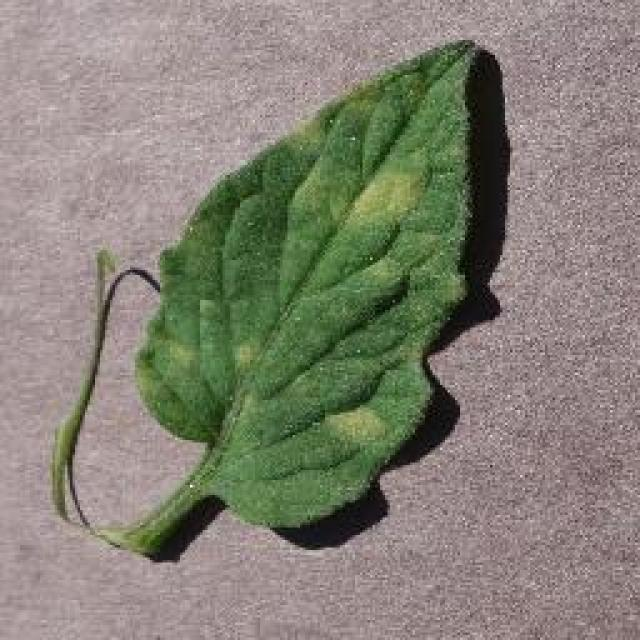Tomato mold leaf: (133, 36, 480, 524)
